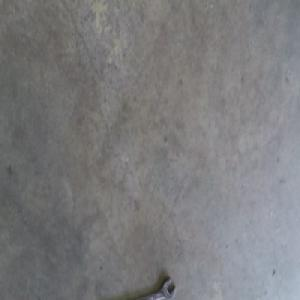Wrench: (141, 277, 175, 299)
